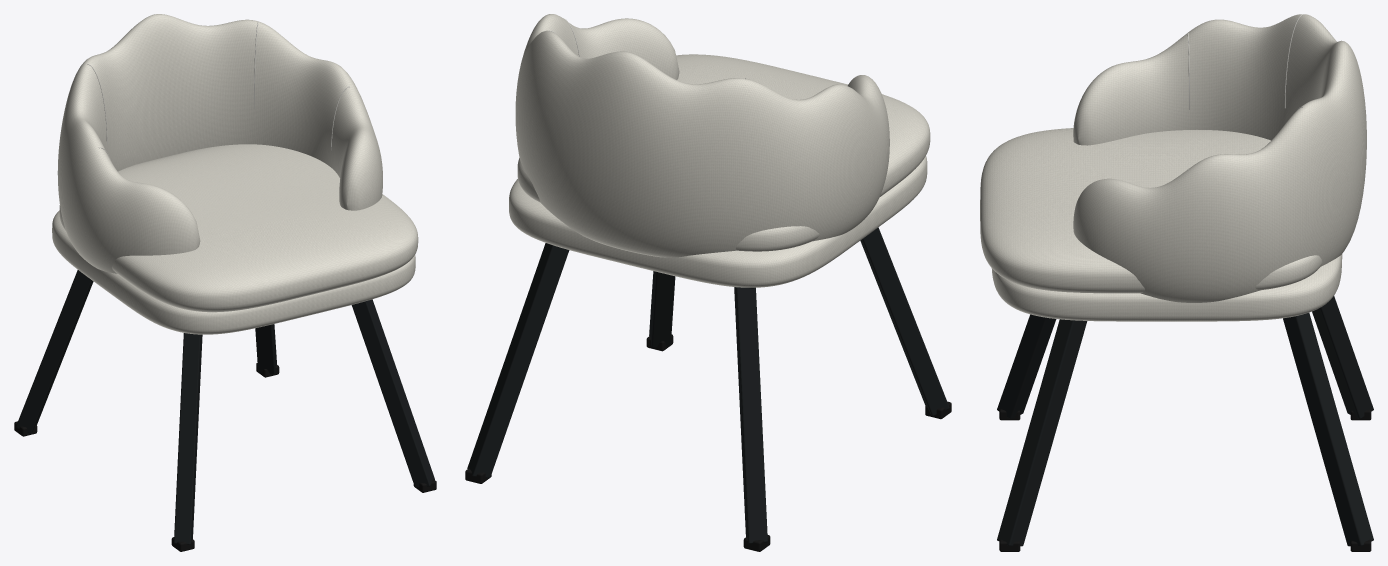
The model's file is yaheetech-flower-swivel-chair.glb.
The picture shows the model from 3 angles, left to right: view 1: azimuth 30°, elevation 25°; view 2: azimuth 150°, elevation 25°; view 3: azimuth 270°, elevation 25°; orthographic projection. The views are drawn at different scales.
Parts seen in each view (by area): view 1: Continuous scalloped flower back and arms, Soft rounded seat cushion, Lower upholstered seat shell, Splayed square steel leg.002, Splayed square steel leg, Splayed square steel leg.001, Splayed square steel leg.003; view 2: Continuous scalloped flower back and arms, Lower upholstered seat shell, Soft rounded seat cushion, Splayed square steel leg.003, Splayed square steel leg.001, Splayed square steel leg, Splayed square steel leg.002; view 3: Continuous scalloped flower back and arms, Soft rounded seat cushion, Lower upholstered seat shell, Splayed square steel leg.003, Splayed square steel leg.002, Splayed square steel leg.001, Splayed square steel leg.
Boxes of the visible parts, x1,y1,x2,y2 form: Continuous scalloped flower back and arms: [57, 14, 382, 273]; Soft rounded seat cushion: [59, 144, 418, 312]; Lower upholstered seat shell: [52, 210, 415, 334]; Splayed square steel leg.002: [351, 299, 434, 487]; Splayed square steel leg: [174, 333, 202, 544]; Splayed square steel leg.001: [16, 270, 93, 433]; Splayed square steel leg.003: [255, 324, 276, 374]; Continuous scalloped flower back and arms: [515, 14, 889, 257]; Lower upholstered seat shell: [509, 156, 927, 287]; Soft rounded seat cushion: [517, 54, 930, 251]; Splayed square steel leg.003: [467, 243, 569, 478]; Splayed square steel leg.001: [734, 287, 767, 543]; Splayed square steel leg: [860, 227, 949, 415]; Splayed square steel leg.002: [649, 271, 675, 347]; Continuous scalloped flower back and arms: [1073, 14, 1366, 302]; Soft rounded seat cushion: [980, 128, 1322, 293]; Lower upholstered seat shell: [991, 254, 1342, 321]; Splayed square steel leg.003: [1283, 313, 1373, 546]; Splayed square steel leg.002: [997, 319, 1087, 546]; Splayed square steel leg.001: [1312, 296, 1373, 418]; Splayed square steel leg: [997, 314, 1056, 418].
Size of the model in its own units: 0.5715 by 0.7493 by 0.6096.
4 materials, 1 textured.
